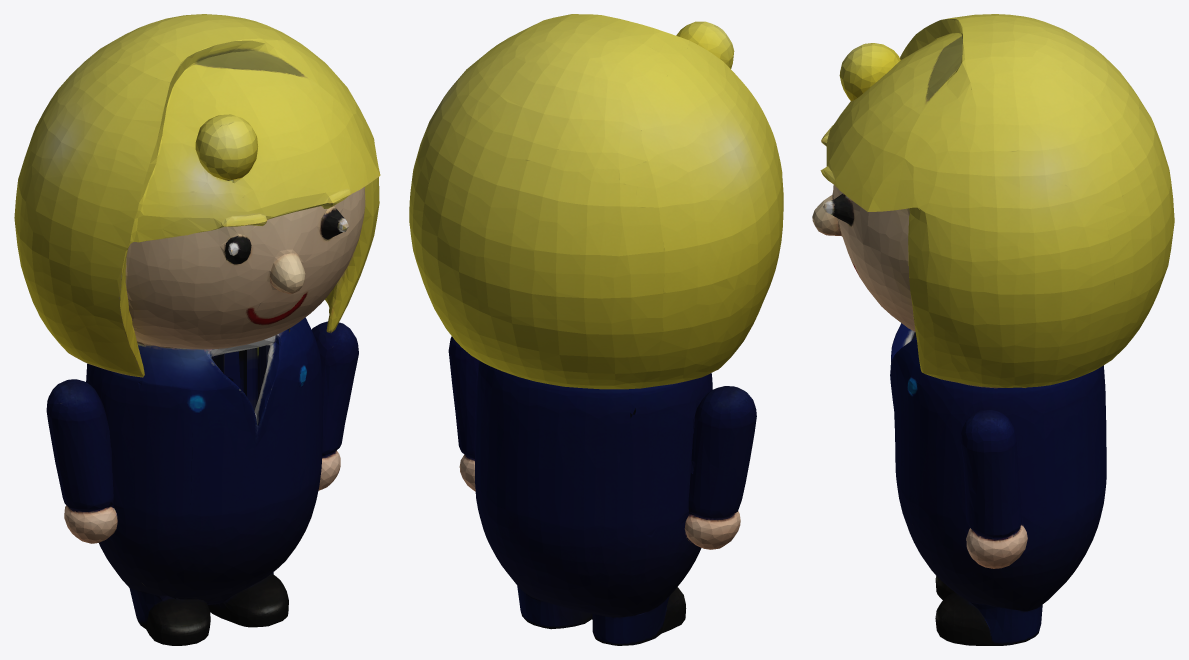
Rendered from le_pen.glb.
3 renders of one model, left to right at view 1: azimuth 30°, elevation 25°; view 2: azimuth 150°, elevation 25°; view 3: azimuth 270°, elevation 25°, orthographic. The views are drawn at different scales.
Visible parts, largest first — view 1: geometry_0; view 2: geometry_0; view 3: geometry_0.
Boxes of the visible parts, <box> form: geometry_0: <box>14,14,380,645</box>; geometry_0: <box>409,14,783,645</box>; geometry_0: <box>812,14,1174,645</box>.
Bounding box in the file's own units: 0.5818 × 0.9996 × 0.5654.
1 material, 1 textured.
